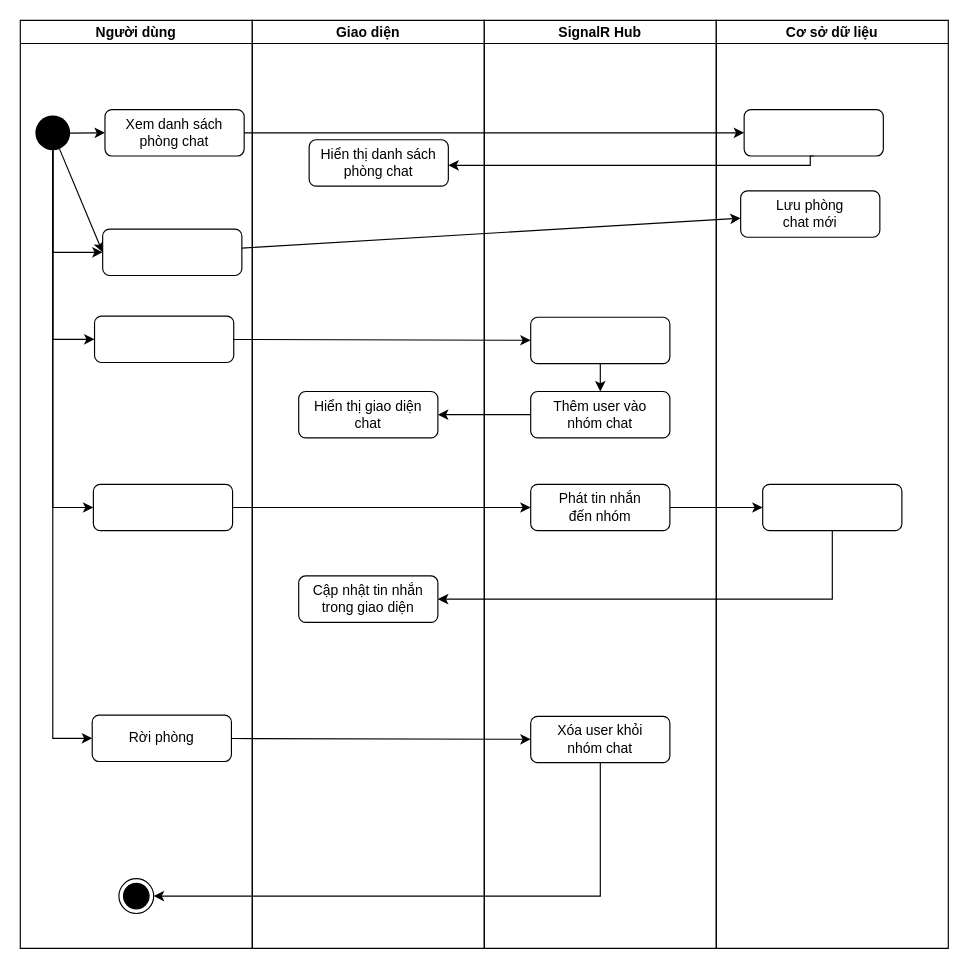
This 969x969 diagram has some shape labels left out. The shapes that lost their labels are listed below. From the top down, each one's centre as x and y in pixels, then its label:
At point 813,132: "Tải danh sách phòng chat".
At point 172,252: "Tạo phòng chat mới".
At point 163,338: "Tham gia phòng chat".
At point 600,340: "Khởi tạo kết nối SignalR".
At point 162,507: "Gửi tin nhắn".
At point 832,507: "Lưu tin nhắn".
